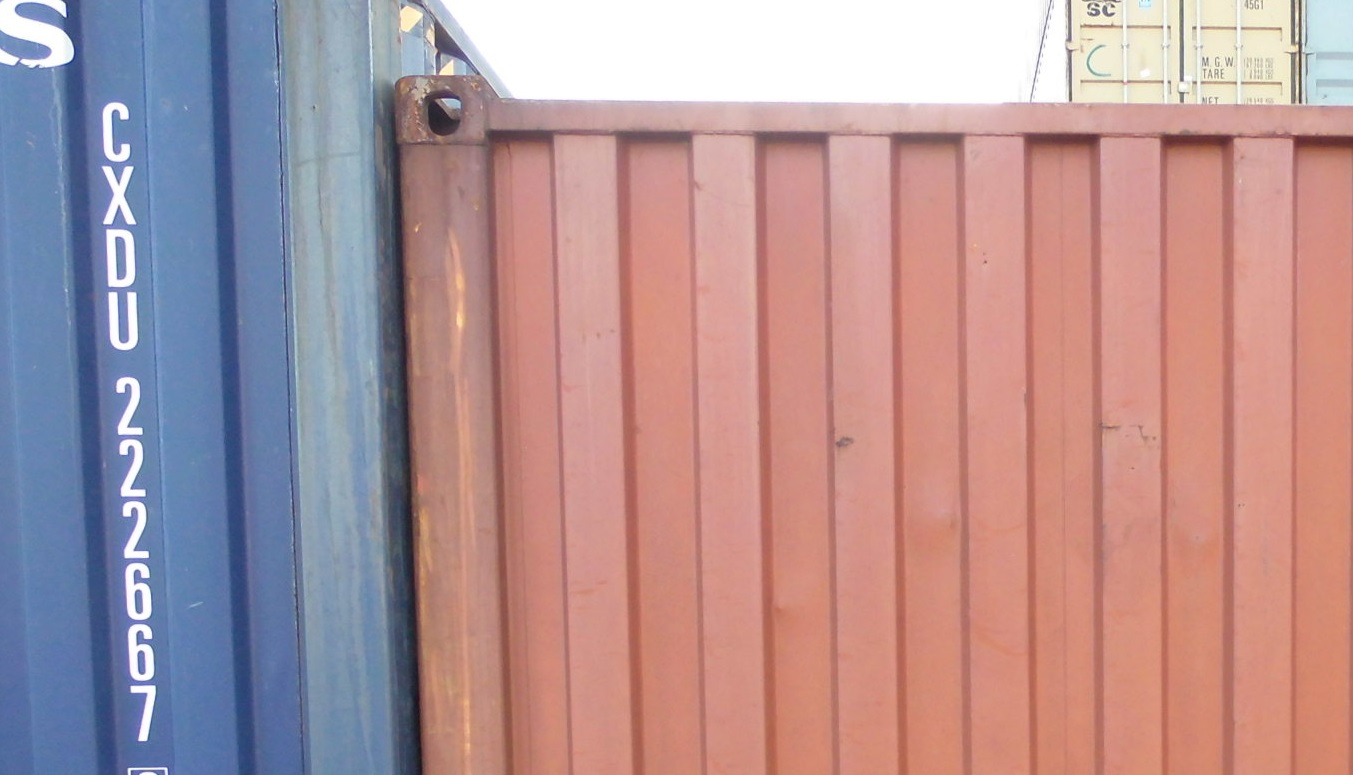container_no_door: (387, 74, 1348, 770)
